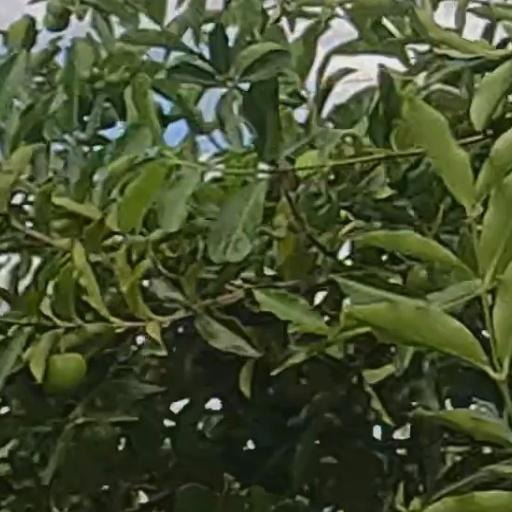acerola_verde: (44, 357, 84, 391)
